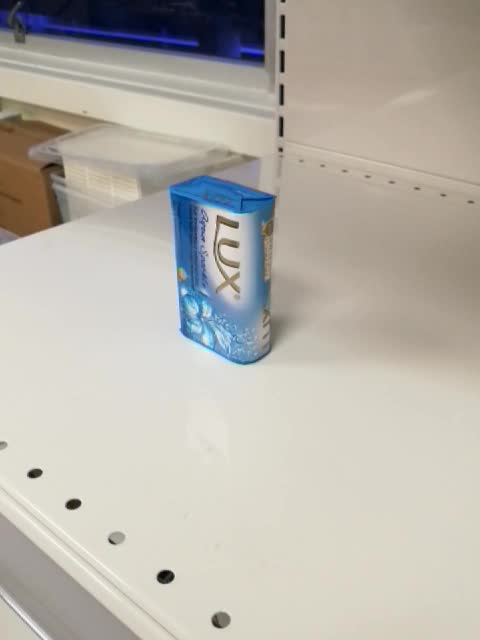soap: (168, 174, 280, 366)
